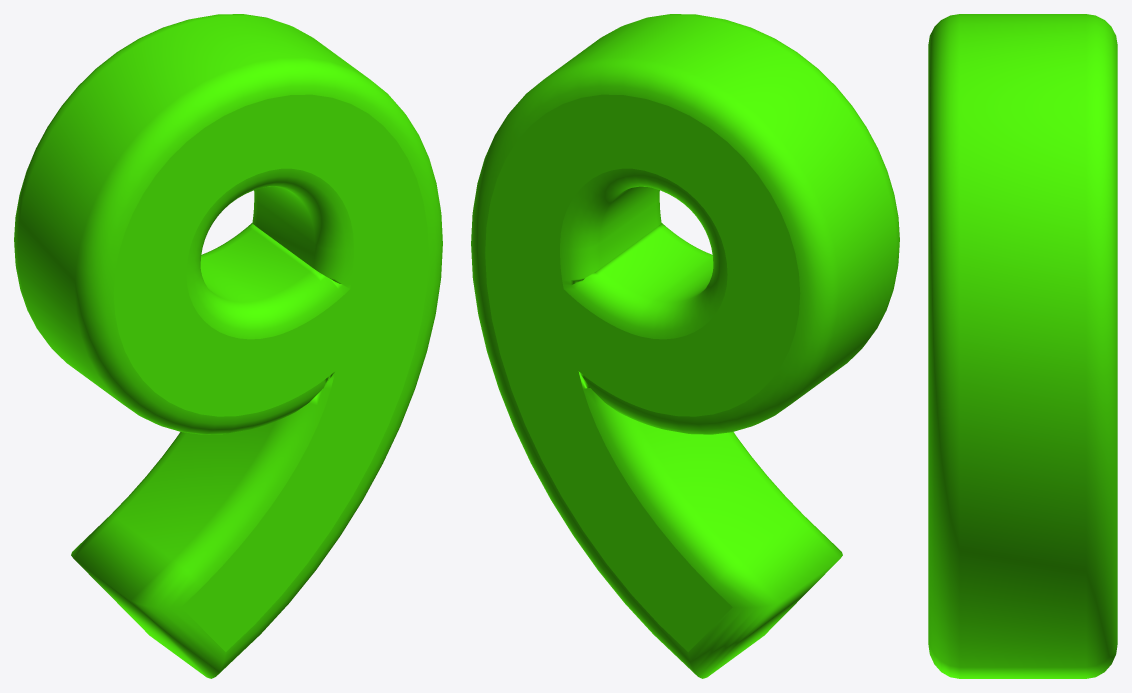
3 renders of one model, left to right at view 1: azimuth 30°, elevation 25°; view 2: azimuth 150°, elevation 25°; view 3: azimuth 270°, elevation 25°, orthographic. The views are drawn at different scales.
Parts seen in each view (by area): view 1: Text; view 2: Text; view 3: Text.
Boxes of the visible parts, x1,y1,x2,y2 form: Text: (14,14,442,678); Text: (471,14,899,678); Text: (928,14,1117,678).
Bounding box in the file's own units: 1.48 × 2.33 × 0.6.
